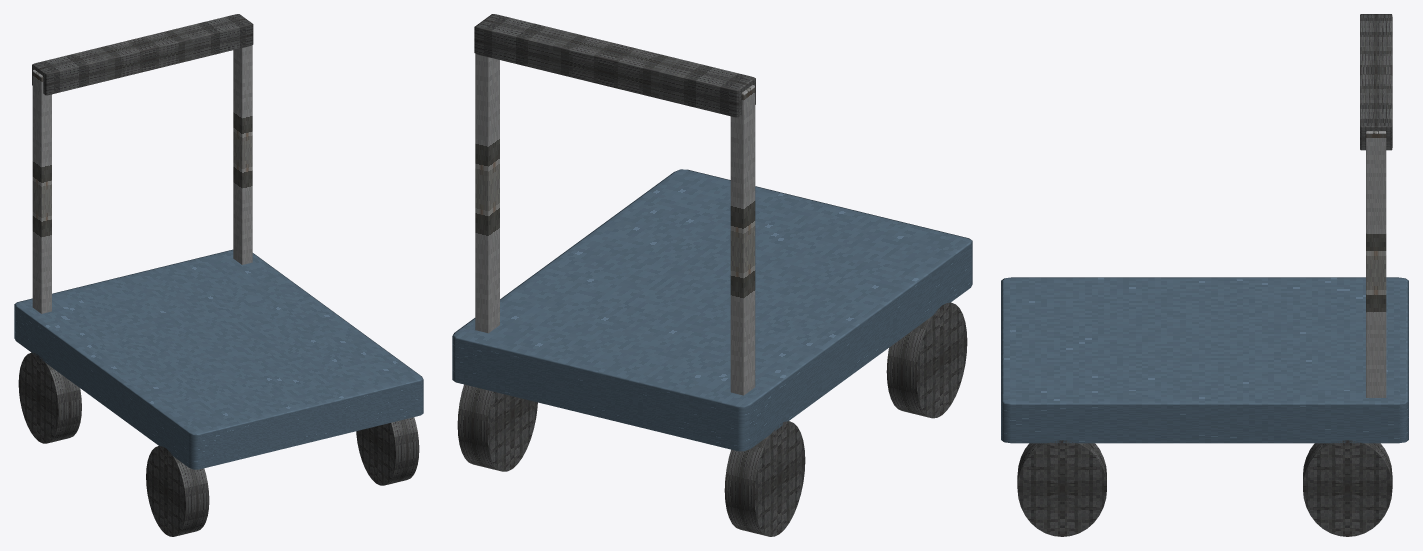
The model's file is laundry-cart.glb.
The picture shows the model from 3 angles, left to right: view 1: azimuth 30°, elevation 25°; view 2: azimuth 150°, elevation 25°; view 3: azimuth 270°, elevation 25°; orthographic projection. The views are drawn at different scales.
Visible parts, largest first — view 1: deck, caster (×3), upright (×2), handle; view 2: deck, caster (×3), upright (×2), handle; view 3: deck, caster (×2), upright, handle.
Part boxes in pixels (x1,y1,x2,y2): deck: (14, 249, 423, 469); caster (×3): (18, 352, 419, 536); upright (×2): (32, 45, 252, 313); handle: (32, 14, 253, 95); deck: (452, 169, 972, 451); caster (×3): (457, 302, 967, 536); upright (×2): (475, 53, 755, 395); handle: (474, 14, 755, 117); deck: (1001, 277, 1408, 443); caster (×2): (1017, 440, 1392, 536); upright: (1366, 131, 1386, 397); handle: (1360, 14, 1392, 150).
Bounding box in the file's own units: 0.57 × 0.84 × 0.77.
Materials: 3 (3 with a texture image).
